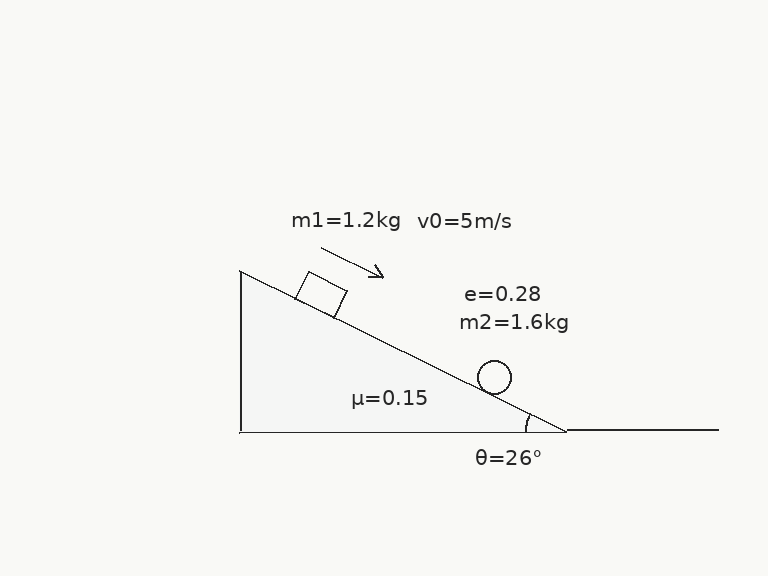ball: (475, 358, 513, 396)
block: (293, 269, 348, 319)
ramp: (238, 270, 568, 433)
